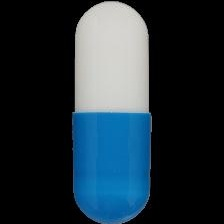0093-7165: (0, 0, 224, 224)
